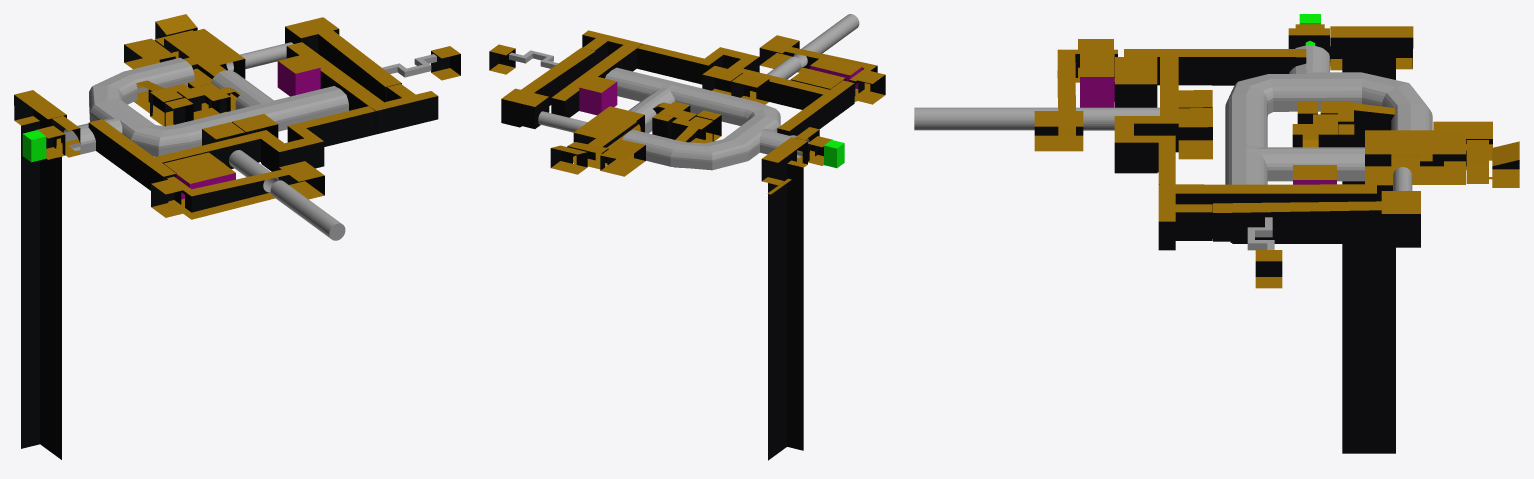
The model's file is Canalization.obj.
3 views of the same model, side by side, from view 1: azimuth 30°, elevation 25°; view 2: azimuth 150°, elevation 25°; view 3: azimuth 270°, elevation 25° (orthographic). The views are drawn at different scales.
Parts seen in each view (by area): view 1: Cube, Cube.004, Cube.003, Cube.002, Cube.001; view 2: Cube, Cube.004, Cube.003, Cube.002, Cube.001; view 3: Cube, Cube.004, Cube.003, Cube.002.
Part boxes in pixels (x1,y1,x2,y2): Cube: (14, 22, 460, 459); Cube.004: (14, 14, 460, 219); Cube.003: (63, 42, 436, 240); Cube.002: (176, 61, 320, 199); Cube.001: (22, 130, 46, 162); Cube: (489, 35, 885, 460); Cube.004: (490, 30, 885, 194); Cube.003: (509, 14, 859, 170); Cube.002: (579, 65, 862, 115); Cube.001: (824, 140, 844, 168); Cube: (1034, 35, 1519, 453); Cube.004: (1034, 24, 1519, 288); Cube.003: (914, 45, 1432, 250); Cube.002: (1080, 77, 1336, 184).
Bounding box in the file's own units: 83.25 × 67.55 × 86.61.
